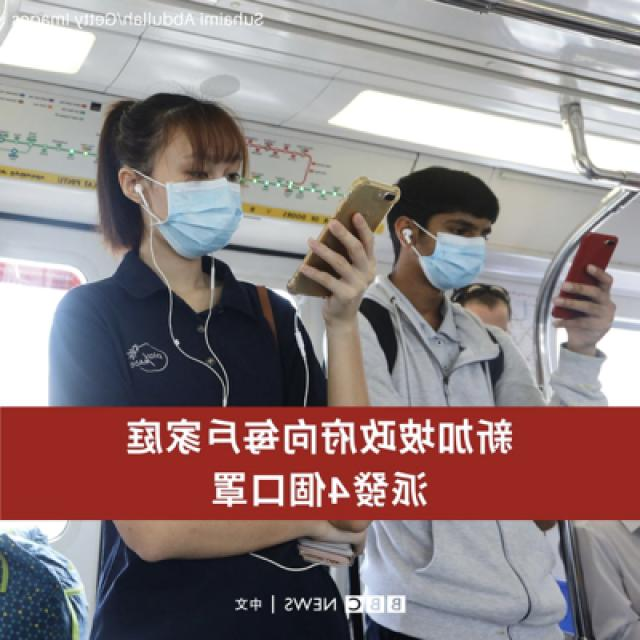mask: (147, 147, 245, 259), (424, 216, 493, 288)
